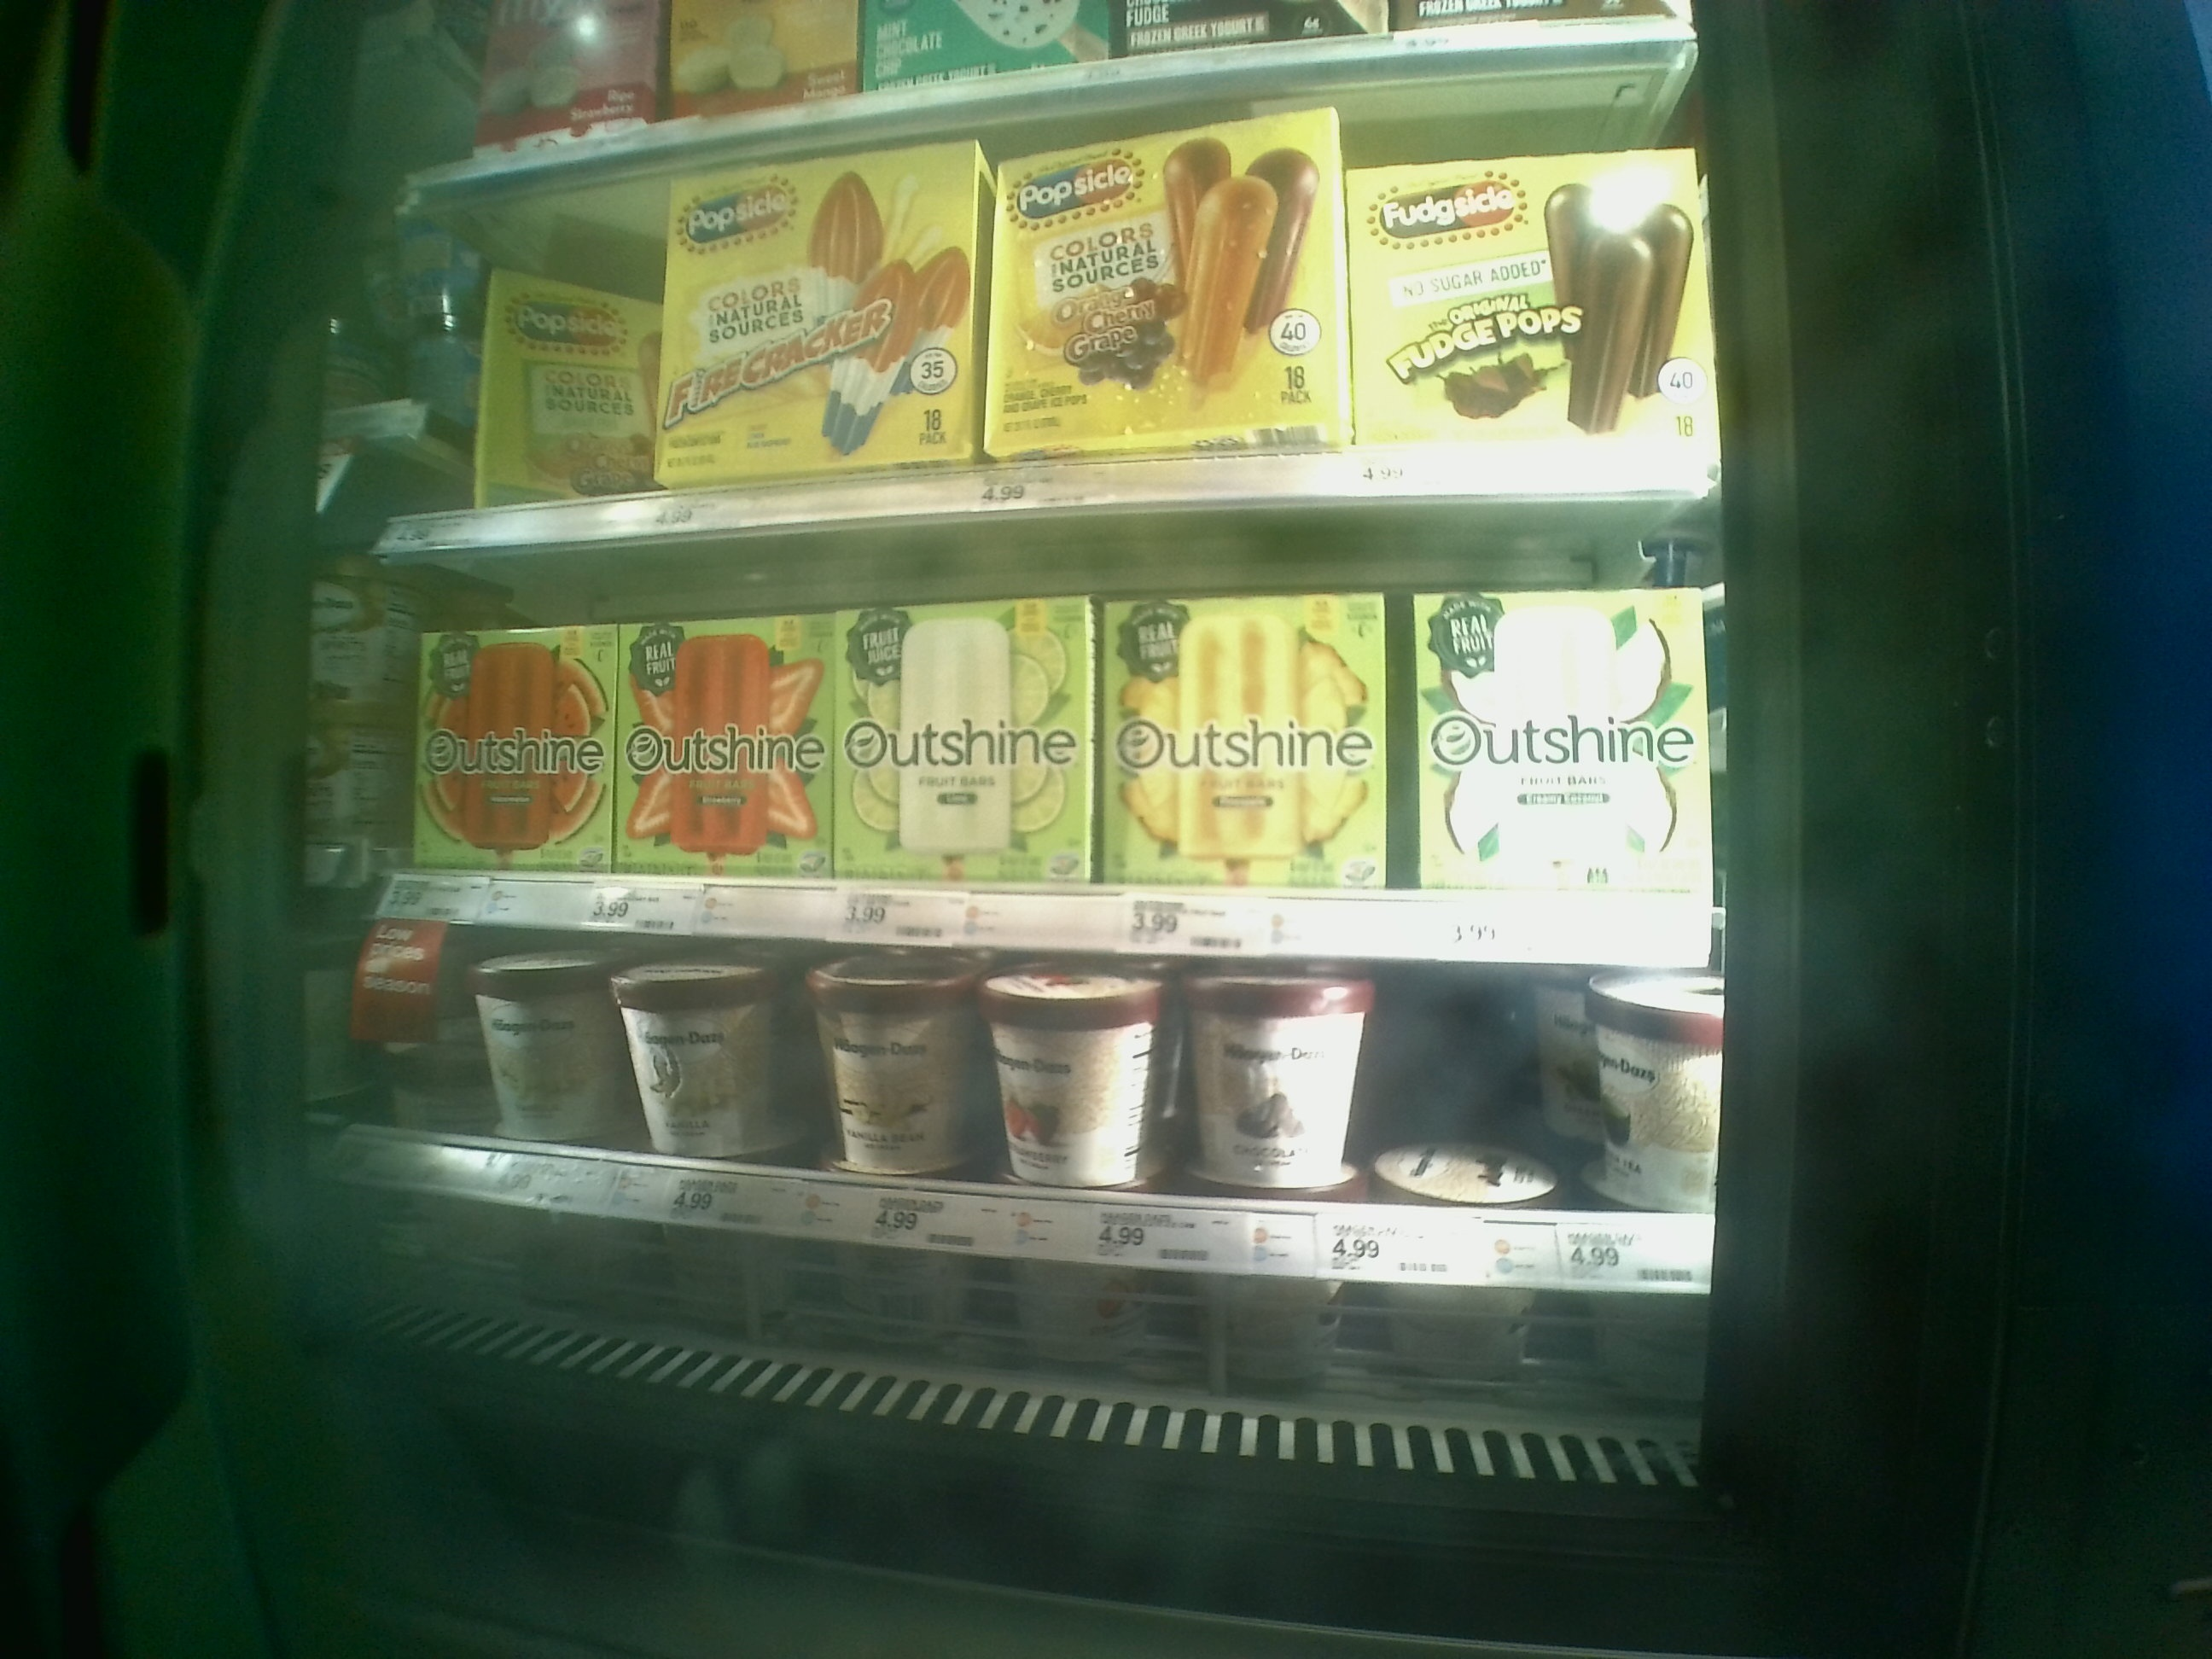ice-cream-shelf: (350, 938, 1724, 1391), (348, 936, 1723, 1389), (355, 511, 1731, 953)
